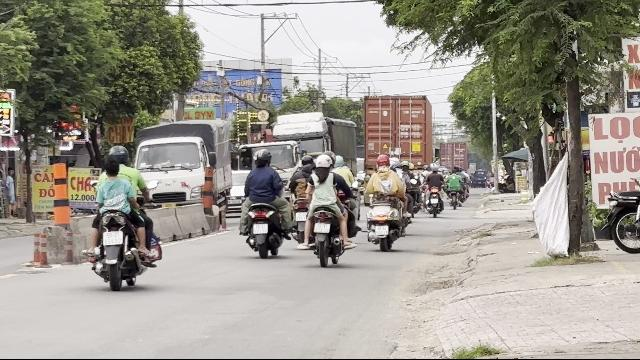helmet: (107, 144, 129, 164), (314, 153, 332, 173), (253, 149, 271, 167)
licenseplate: (103, 231, 123, 244), (252, 224, 268, 234), (314, 223, 330, 233)
motorcyclist: (85, 144, 162, 290), (305, 152, 357, 266), (238, 148, 290, 258)
nohelmet: (102, 157, 120, 177)
